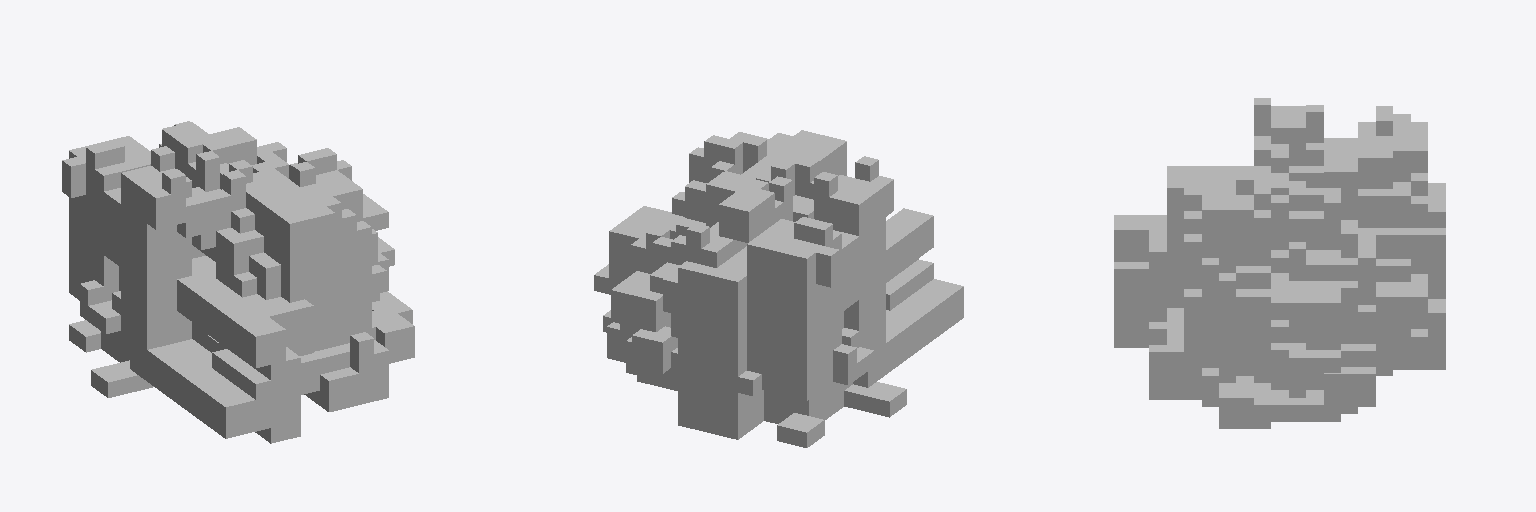
Rendered from Obstacle.obj.
The picture shows the model from 3 angles: view 1: azimuth 30°, elevation 25°; view 2: azimuth 150°, elevation 25°; view 3: azimuth 270°, elevation 25°; orthographic projection.
Size of the model in its own units: 19 by 14 by 19.